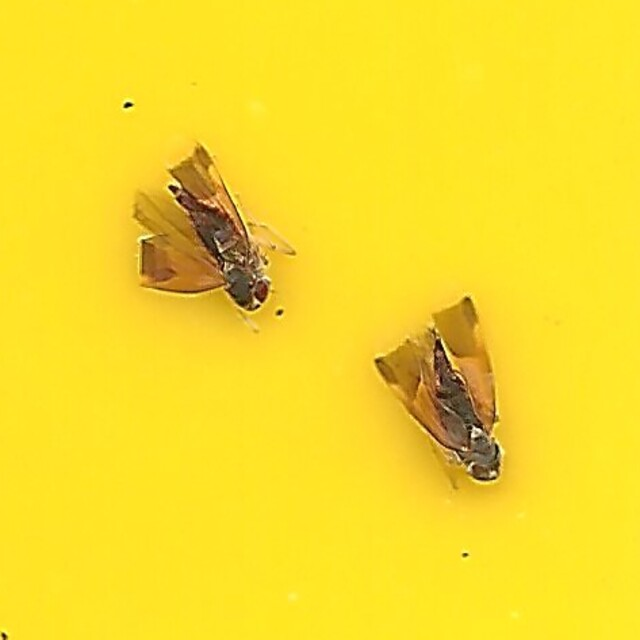Hemiptera: (378, 303, 505, 488), (135, 152, 272, 318)
